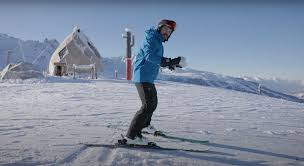skis: (85, 126, 212, 154)
